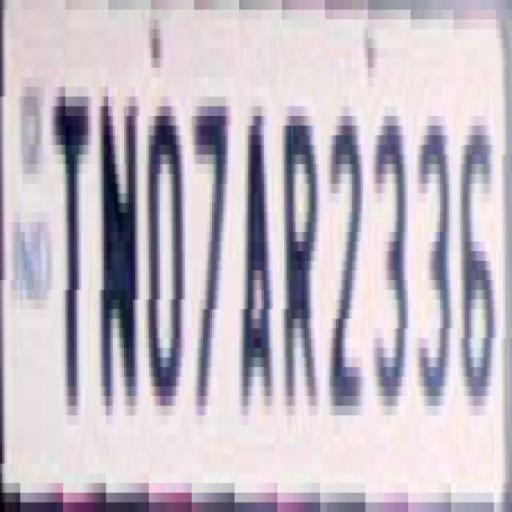number plate: (7, 0, 483, 512)
